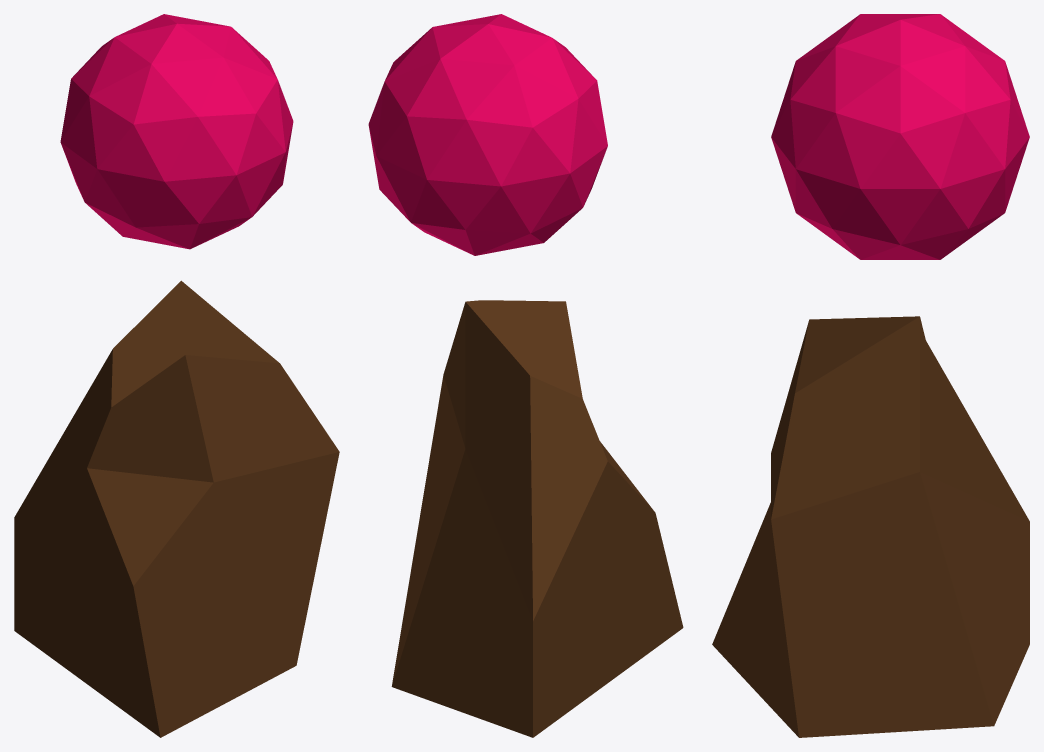
File: RockIllumination.fbx
3 views of the same model, side by side, from view 1: azimuth 30°, elevation 25°; view 2: azimuth 150°, elevation 25°; view 3: azimuth 270°, elevation 25° (orthographic). The views are drawn at different scales.
Parts seen in each view (by area): view 1: Rock Illumination; view 2: Rock Illumination; view 3: Rock Illumination.
Part boxes in pixels (x1,y1,x2,y2): Rock Illumination: [14, 14, 339, 737]; Rock Illumination: [368, 14, 683, 737]; Rock Illumination: [712, 14, 1029, 737].
Bounding box in the file's own units: 200 × 580 × 246.
